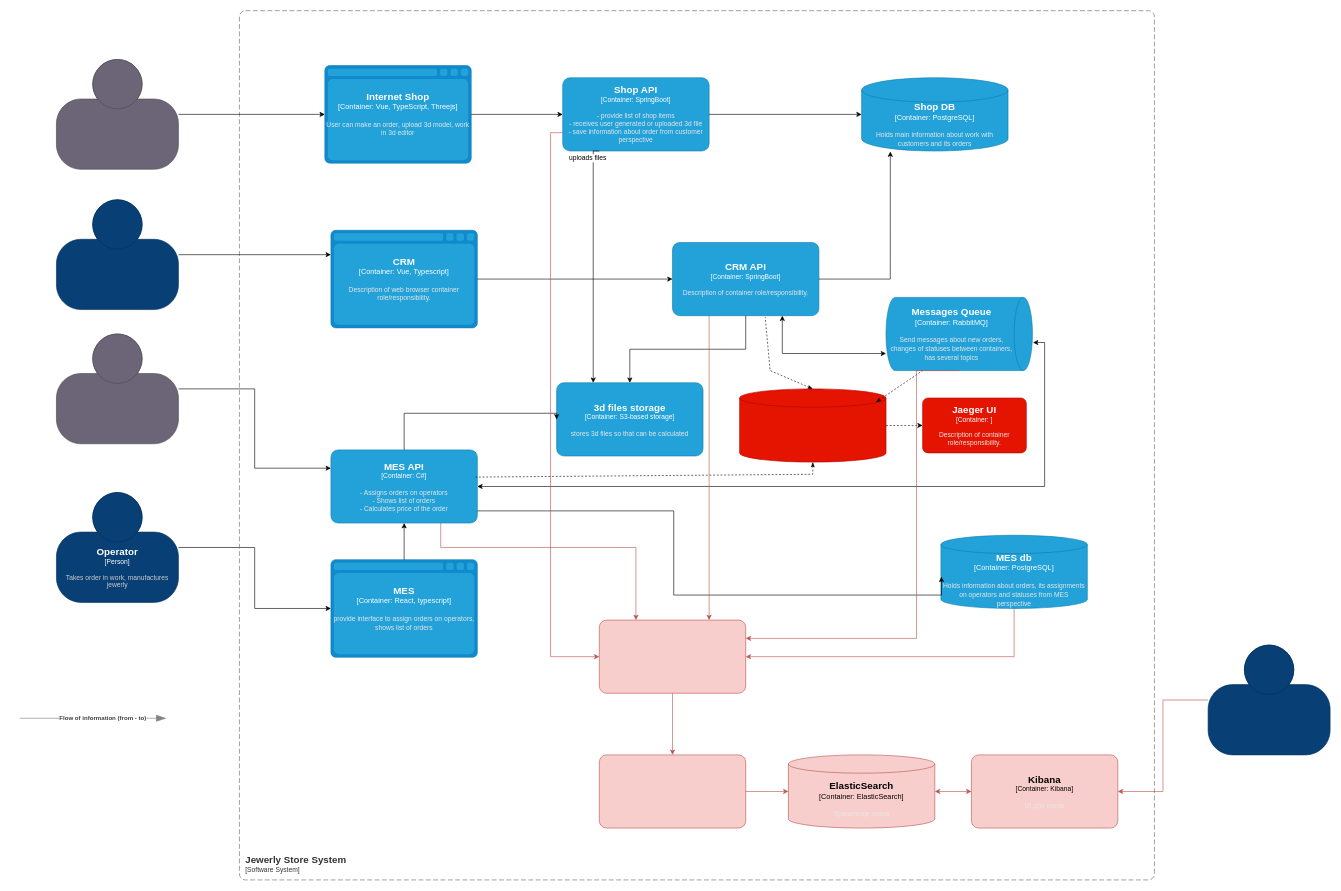
Image size: 1341x891. Some labels were removed from this diagram. Here are the shapes that lost their labels. From the top down, the centre of each, then its label:
At point 117,114: "Customer [Person] Description of external person.".
At point 117,254: "Seller [Person] Operates with order, confirms manufacturing for the user".
At point 117,388: "API user [Person] Description of external person.".
At point 812,425: "Jaeger [Container: ] Description of storage type container role/responsibility.".
At point 672,656: "Filebeat [Container: ] Filebeat".
At point 1268,699: "Log Analyst [Person]".
At point 672,791: "Logstash [Container: ] Logstash".
